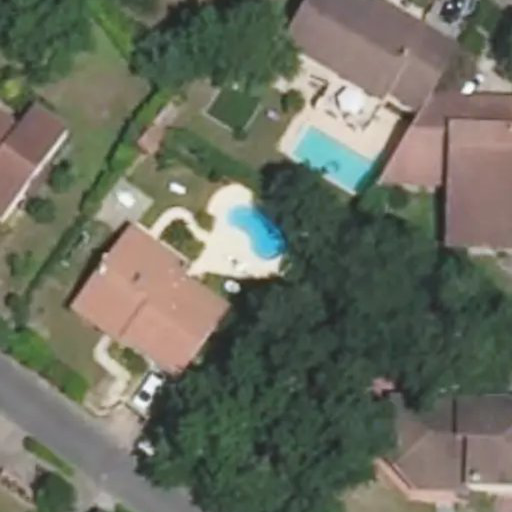pool: (294, 127, 376, 194), (226, 206, 286, 258)
